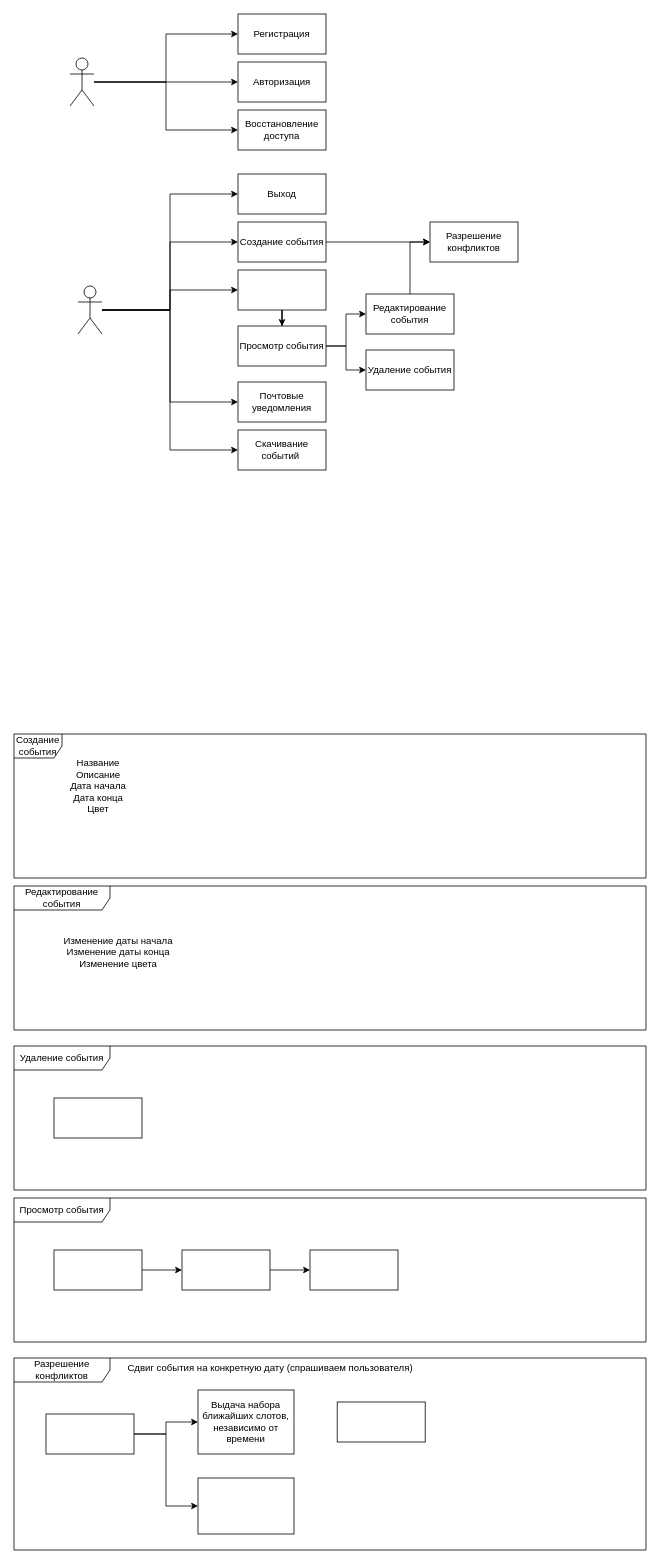
Some shapes in this 660 by 1564 pixel diagram are drawn without their labels. The shapes that lost their labels are listed below. From the top down, each one's centre as x and y in pixels, then its label:
At [81,81]: "Гость".
At [89,309]: "Авторизованный пользователь".
At [281,289]: "Просмотр событий".
At [97,1117]: "Удаление события с DB".
At [97,1269]: "Клик на календаре".
At [225,1269]: "Вывод окна".
At [353,1269]: "Вывод кнопок".
At [89,1433]: "Выдача информации о конфликте".
At [380,1421]: "Object".
